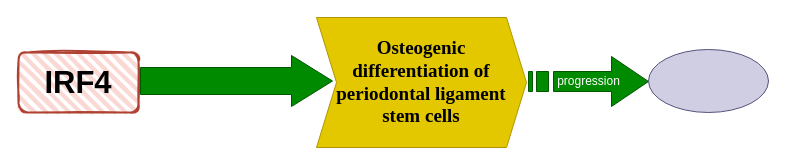
Image size: 786x165. Some labels were removed from this diagram. The shapes that lost their labels are listed below. From the top down, each one's centre as x and y in pixels, then its label:
(236,80): IL-18 signaling pathway
(708,80): periodontitis
